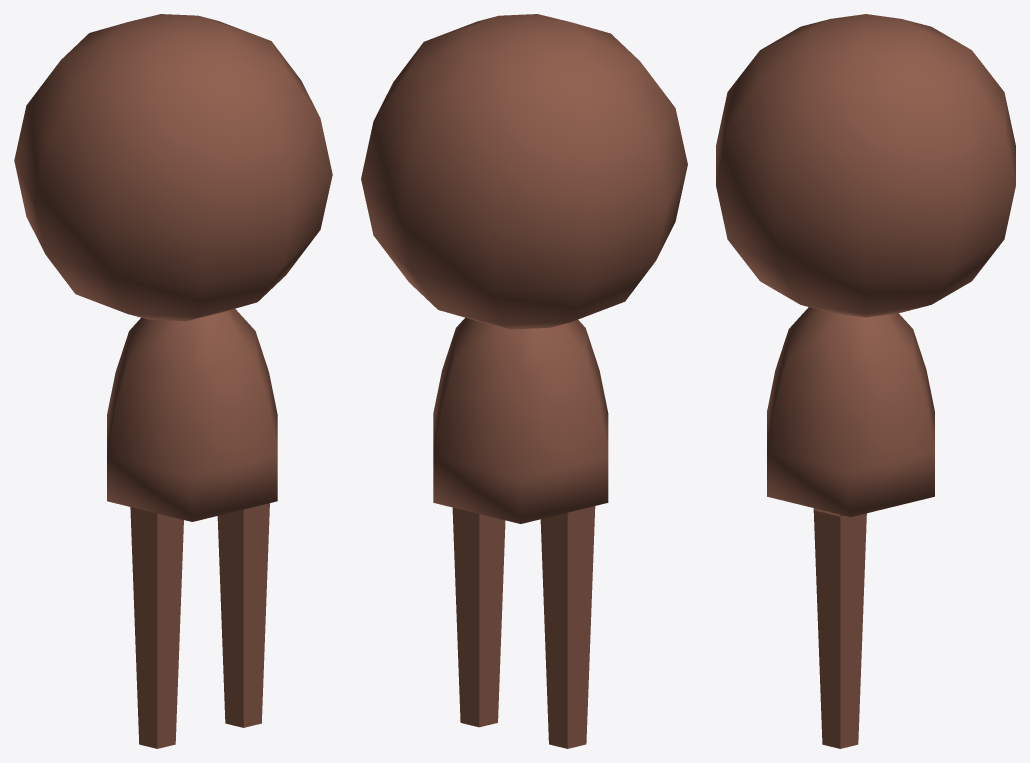
The model's file is luke1.0.fbx.
3 views of the same model, side by side, from view 1: azimuth 30°, elevation 25°; view 2: azimuth 150°, elevation 25°; view 3: azimuth 270°, elevation 25° (orthographic). The views are drawn at different scales.
Visible parts, largest first — view 1: luke; view 2: luke; view 3: luke.
Part boxes in pixels (x1,y1,x2,y2): luke: [14, 14, 332, 748]; luke: [361, 14, 687, 748]; luke: [716, 14, 1015, 748].
Bounding box in the file's own units: 0.6749 × 1.61 × 0.6419.
